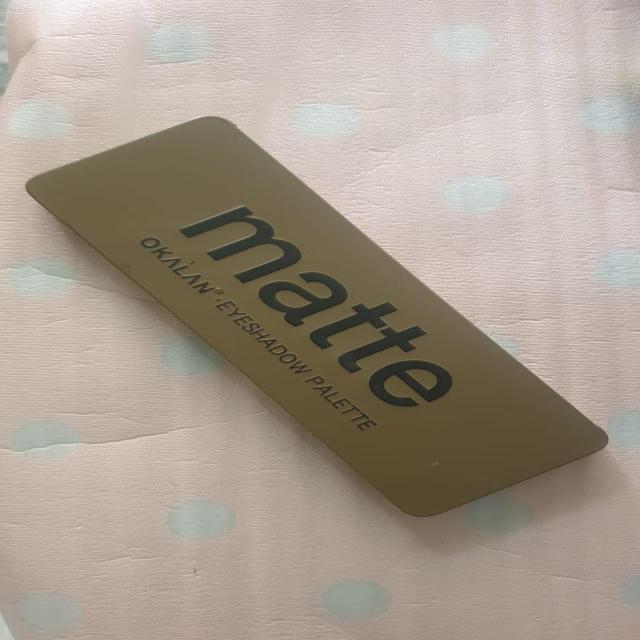makeup: (0, 89, 621, 568)
